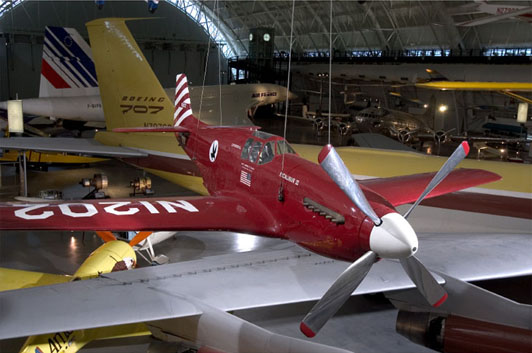Propeller: (307, 139, 469, 326)
